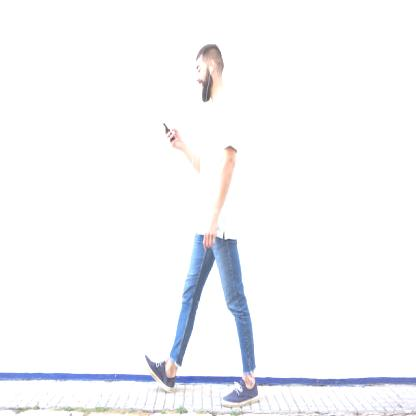jean: (147, 41, 260, 412)
